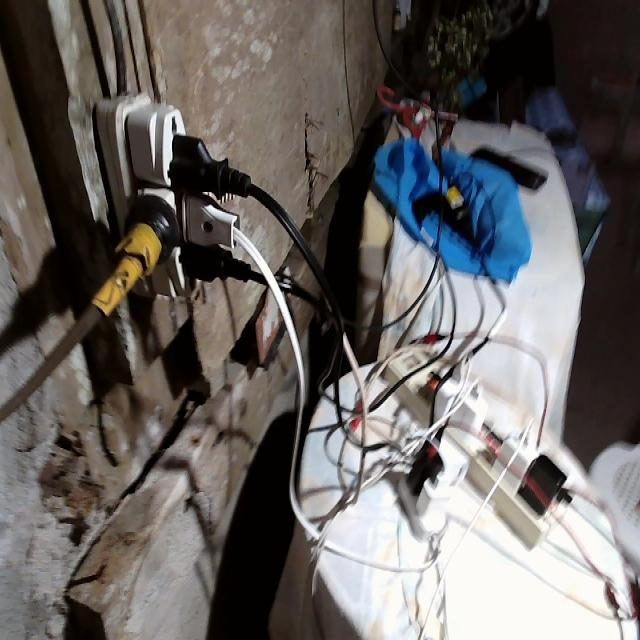-: (92, 93, 254, 299)
